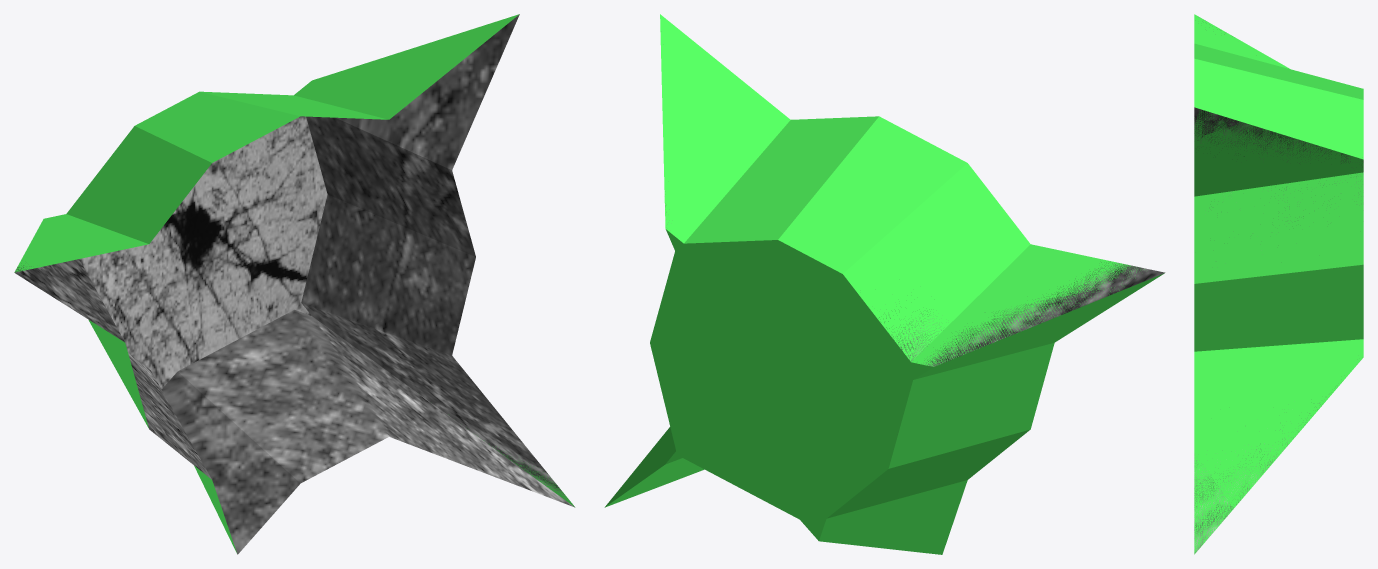
File: bullet_hole.FBX
3 renders of one model, left to right at view 1: azimuth 30°, elevation 25°; view 2: azimuth 150°, elevation 25°; view 3: azimuth 270°, elevation 25°, orthographic. The views are drawn at different scales.
Parts seen in each view (by area): view 1: Circle001; view 2: Circle001; view 3: Circle001.
Boxes of the visible parts, <box> form: Circle001: <box>14,14,575,554</box>; Circle001: <box>604,14,1165,554</box>; Circle001: <box>1194,14,1363,554</box>.
Bounding box in the file's own units: 160 × 138 × 50.
3 materials, 2 textured.
